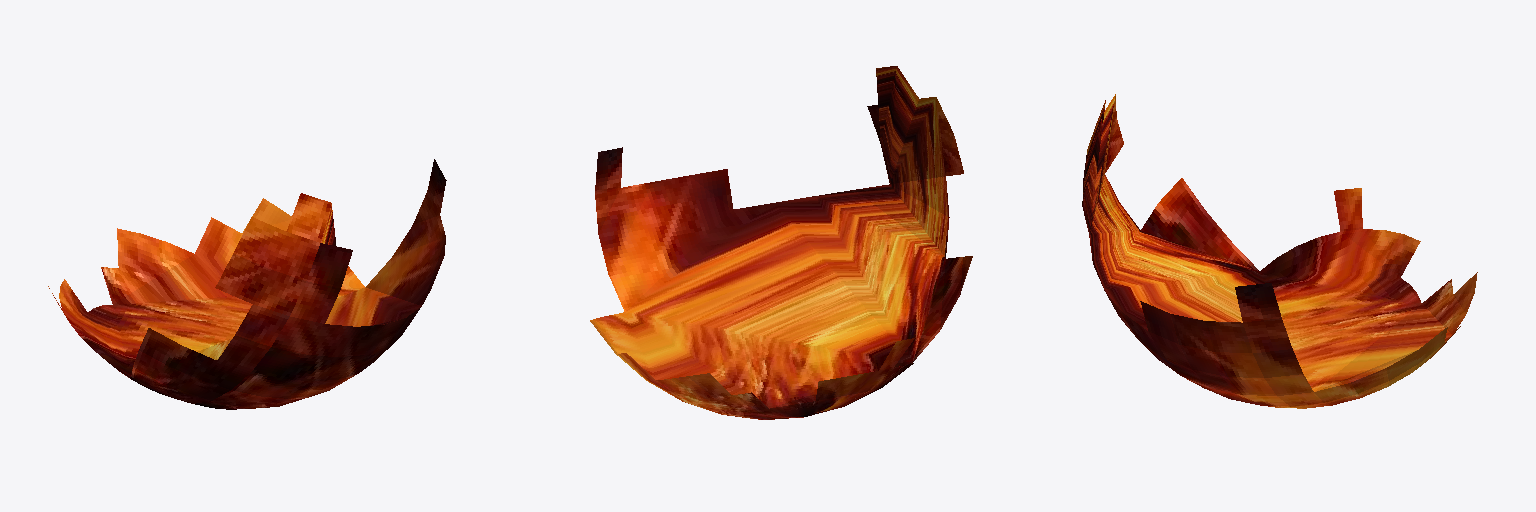
3 views of the same model, side by side, from view 1: azimuth 30°, elevation 25°; view 2: azimuth 150°, elevation 25°; view 3: azimuth 270°, elevation 25° (orthographic).
Parts seen in each view (by area): view 1: 球.007; view 2: 球.007; view 3: 球.007.
Boxes of the visible parts, x1,y1,x2,y2 form: 球.007: [48, 159, 446, 409]; 球.007: [590, 66, 972, 419]; 球.007: [1082, 94, 1477, 408].
Size of the model in its own units: 0.1897 by 0.1427 by 0.1865.
Materials: 1 (1 with a texture image).